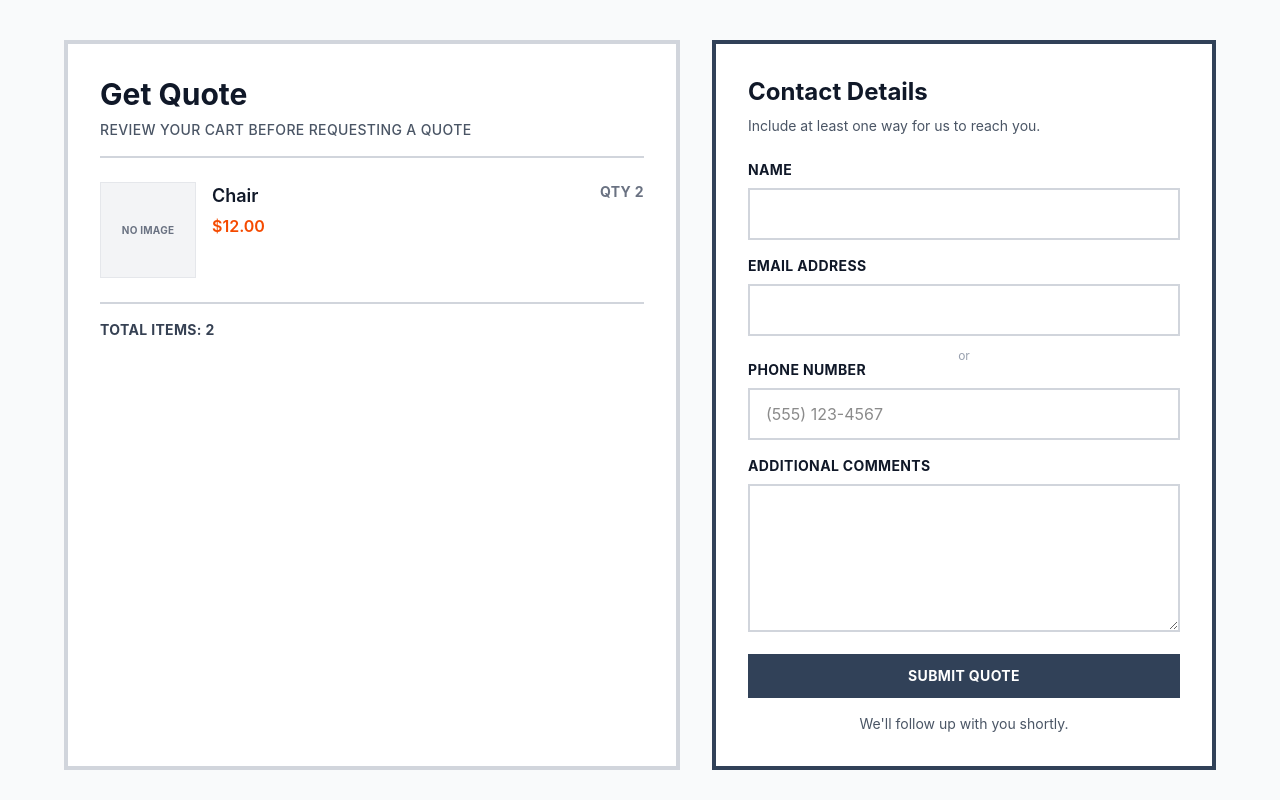
Test: CheckoutPage › requires either an email address or phone number
Type "Alex Smith" into the field labelled "Name" at (964, 214), box [748,188,1180,240]
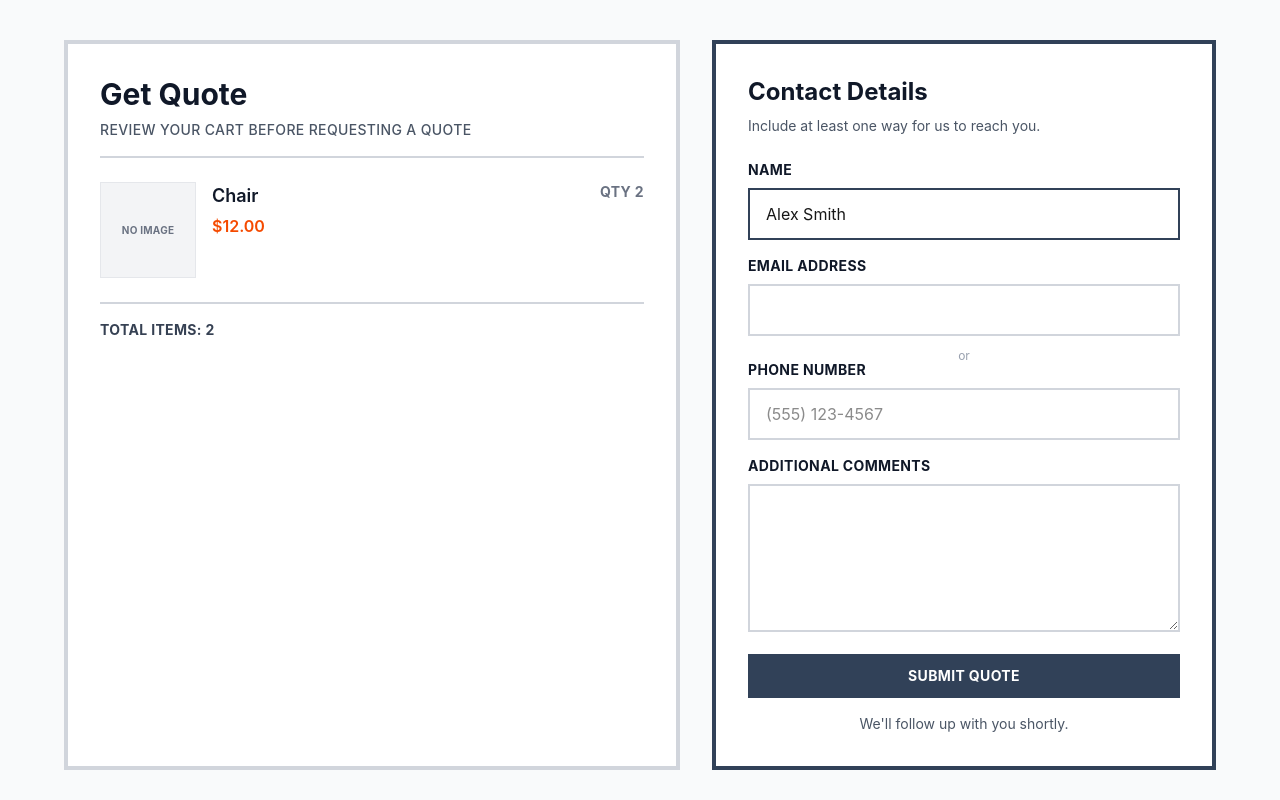
Click the button "Submit Quote" at (964, 676), box [748,654,1180,698]
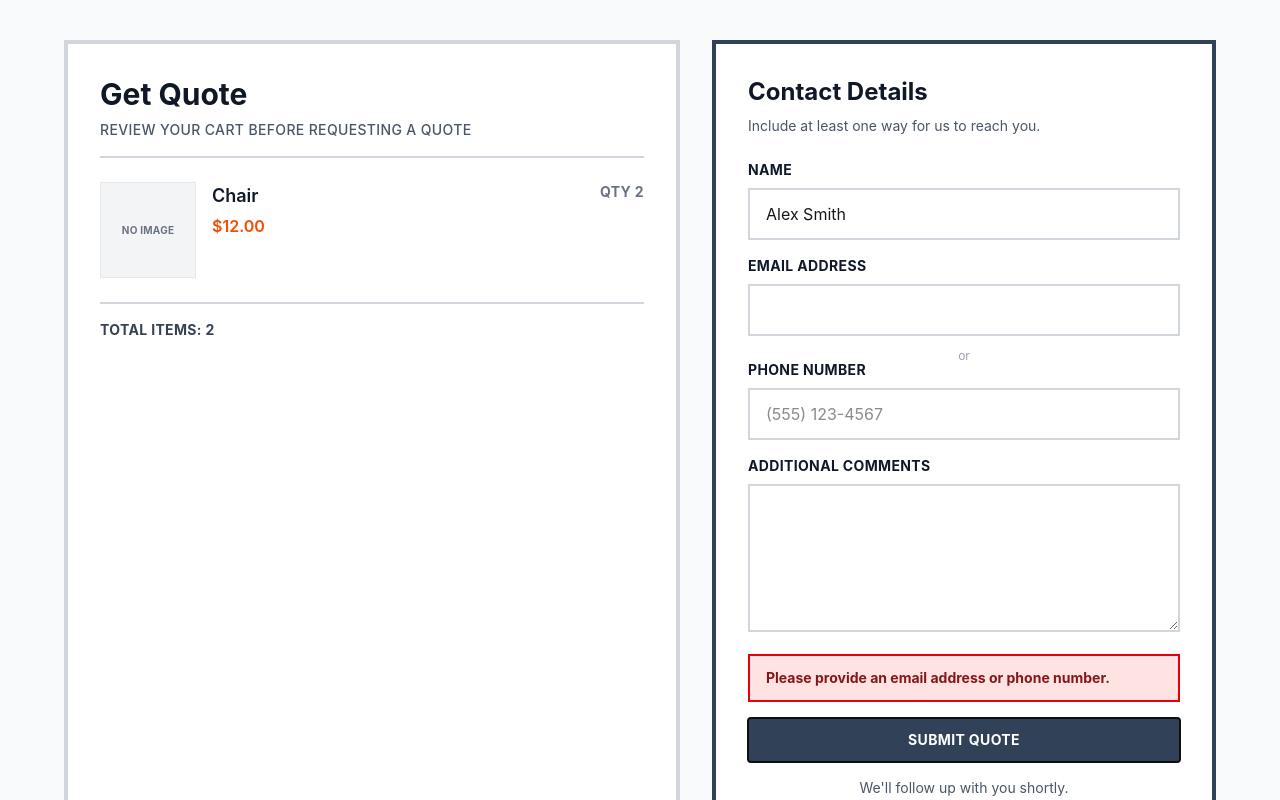
Expected: the text "Please provide an email address or phone number." is shown, [766,668,1162,688]
